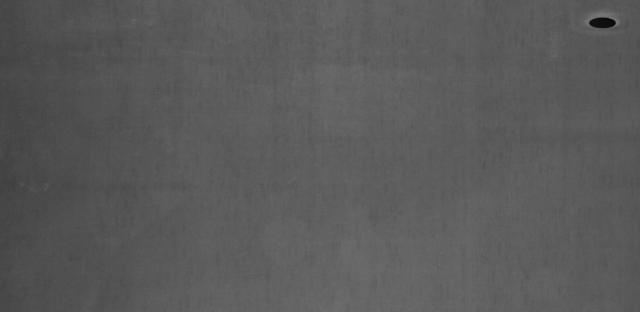punching_hole: (582, 14, 623, 34)
